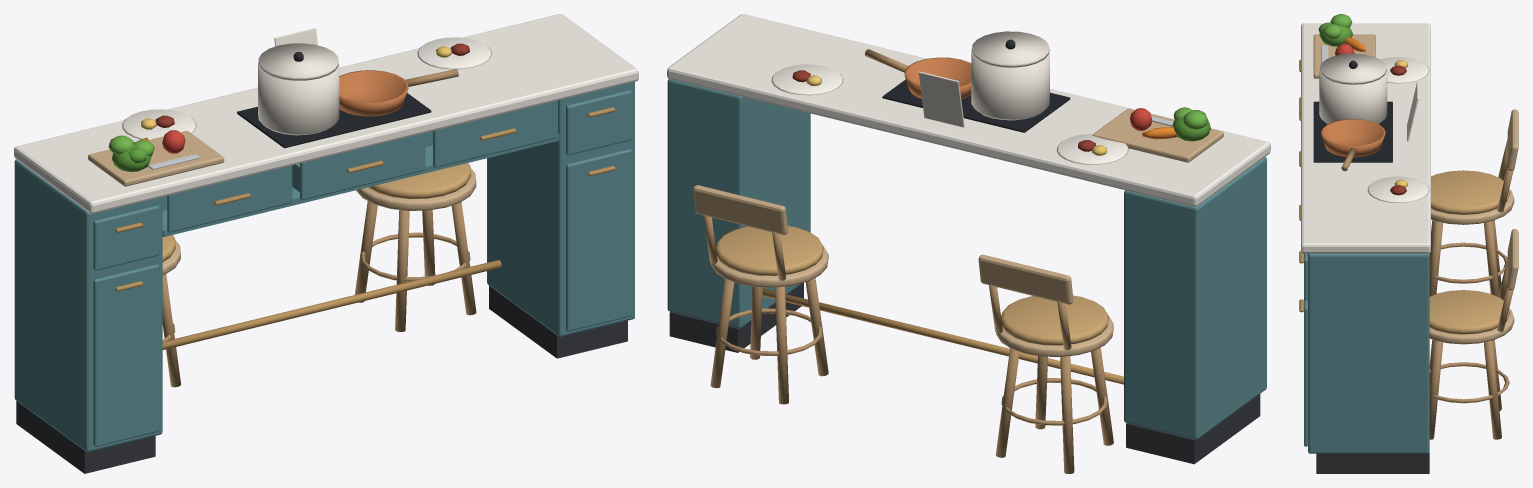
File: chefsIsland.glb
3 views of the same model, side by side, from view 1: azimuth 30°, elevation 25°; view 2: azimuth 150°, elevation 25°; view 3: azimuth 270°, elevation 25° (orthographic). The views are drawn at different scales.
Visible parts, largest first — view 1: body, drawer; view 2: body; view 3: body.
Part boxes in pixels (x1,y1,x2,y2): body: (14, 14, 638, 473); drawer: (292, 133, 425, 200); body: (667, 14, 1270, 473); body: (1299, 14, 1518, 473).
Size of the model in its own units: 1.86 by 1.13 by 0.7743.
